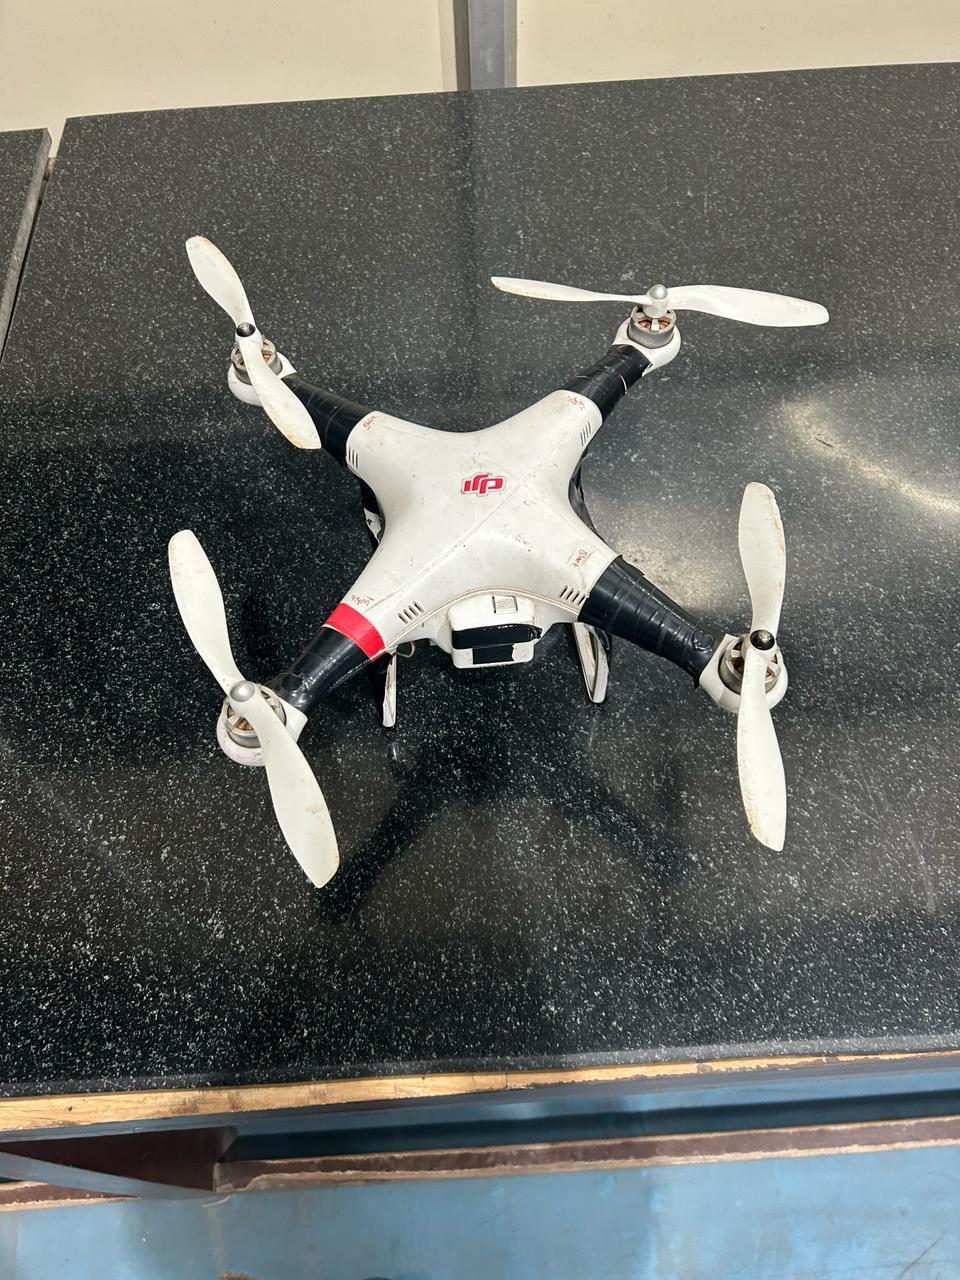drone: (107, 211, 871, 895)
